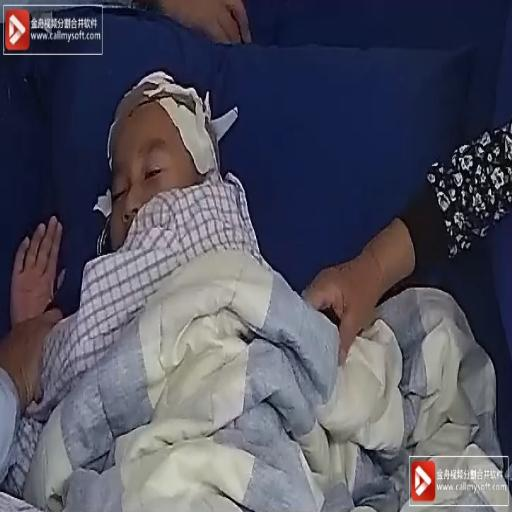Seizure: (107, 94, 220, 211)
